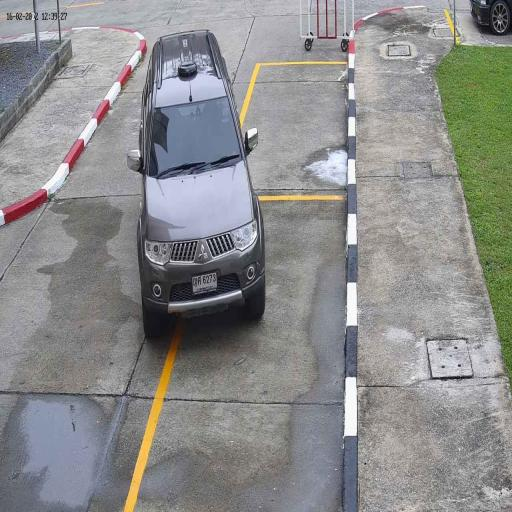car: (136, 28, 266, 341)
